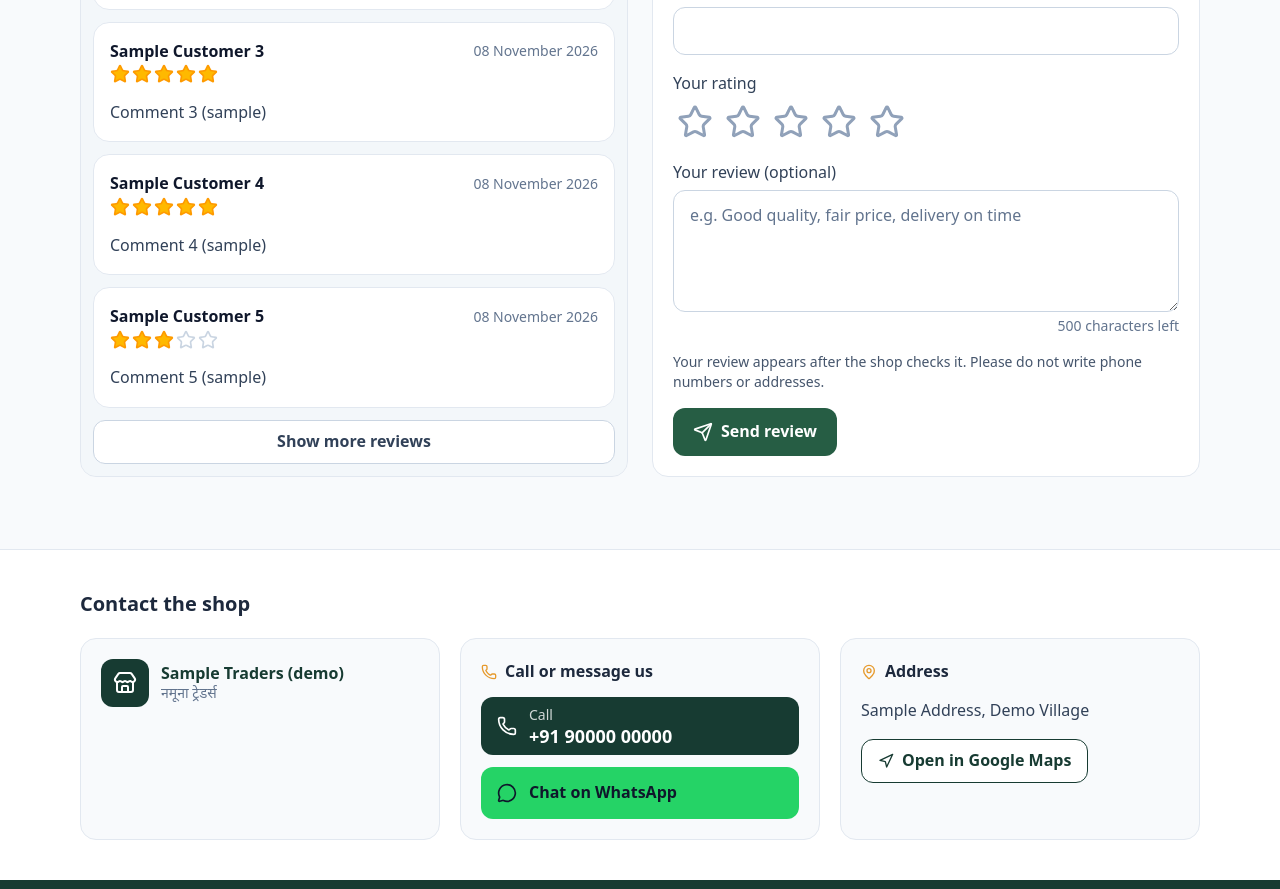
Test: Shop photo, gallery and reviews below the products › shows approved reviews with the average rating and loads more on request
(page scrolled)
Click the button "Show more reviews". click: (354, 442)
box: [93,420,615,464]
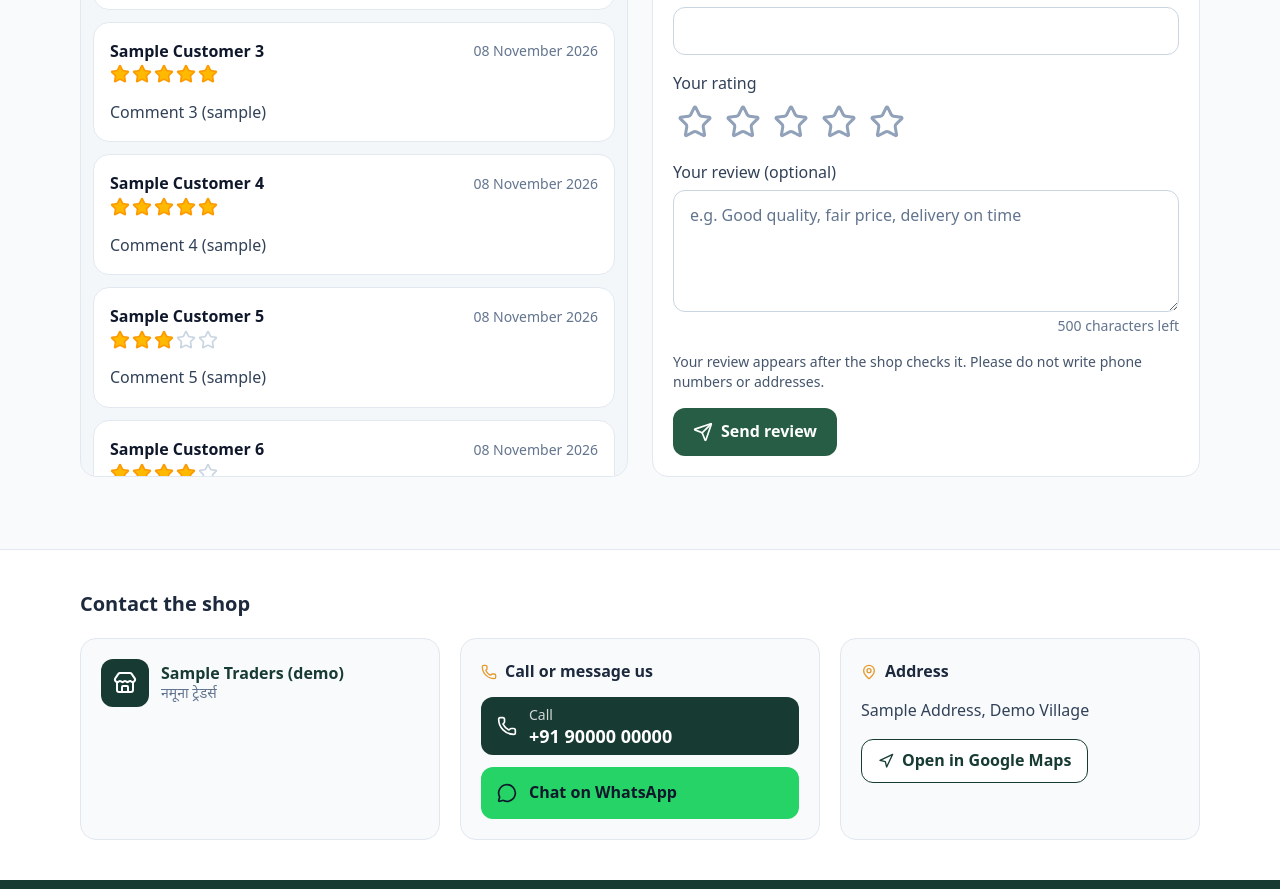
Result: the text "Sample Customer 6" is shown at [110,437,264,463]
Result: the button "Show more reviews" is gone
